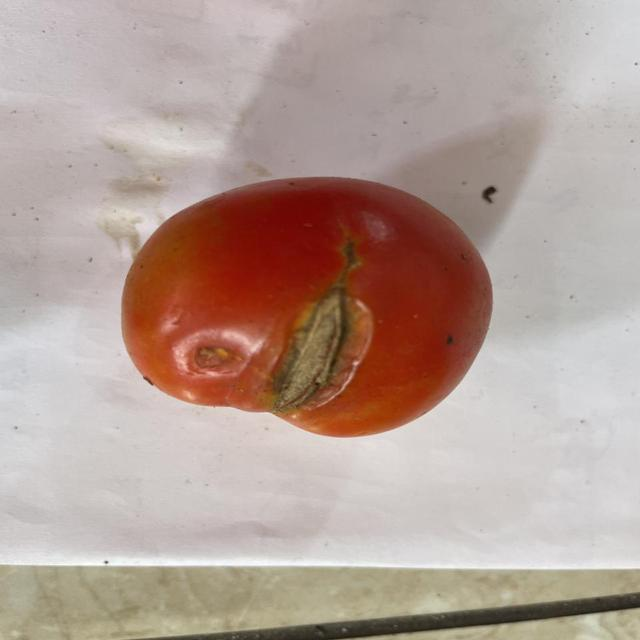Cracking Fruit: (176, 177, 256, 277)
